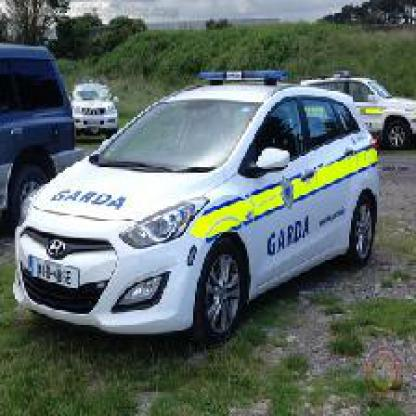emergency: (22, 63, 384, 340)
